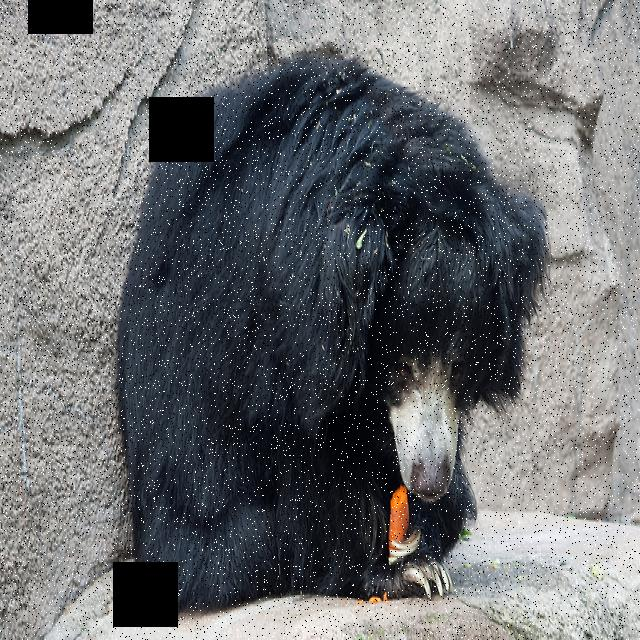Bear: (117, 41, 546, 609)
